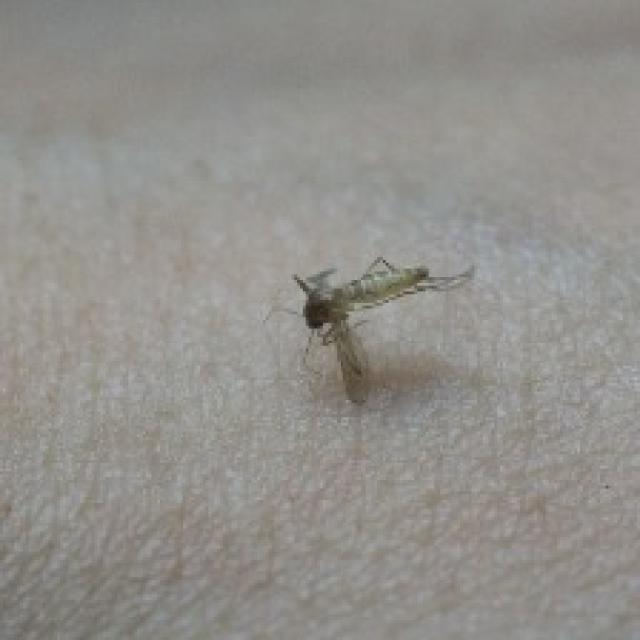culex: (263, 251, 474, 406)
